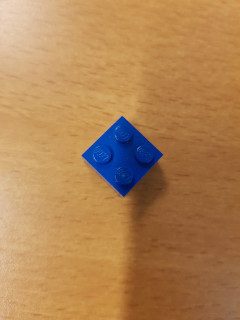2x2 blue: (80, 115, 165, 199)
